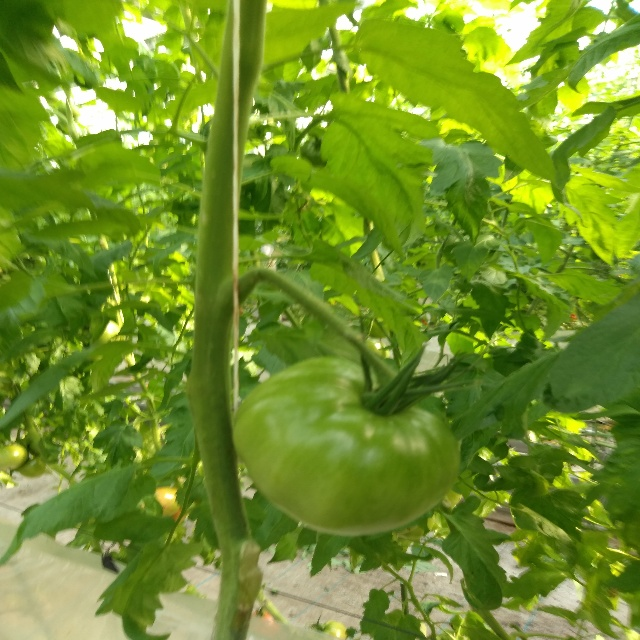b_green: (233, 356, 460, 537), (1, 444, 29, 470), (319, 621, 351, 640), (18, 457, 45, 478)
